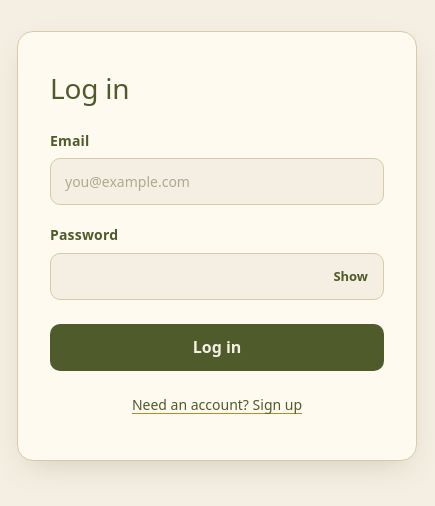
Scenario: AuthForm › TST-01-T-1 auth form switches modes
The width and height of the screenshot is (435, 506).
What coordinates should you click on to do the following:
click the button "Need an account? Sign up"
I would click on:
 (217, 404)
Its box is top-left (50, 389), bottom-right (384, 420).
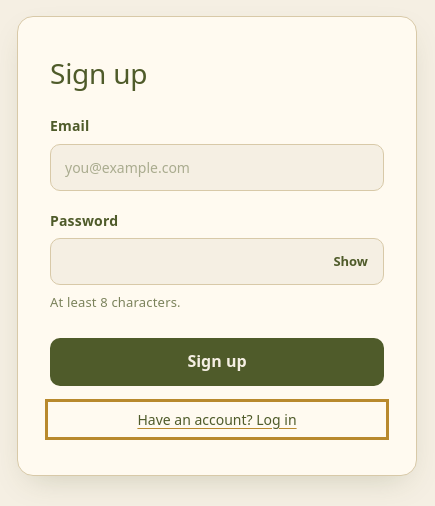
Result: the heading "Sign up" is shown at top-left (50, 54), bottom-right (147, 92)
